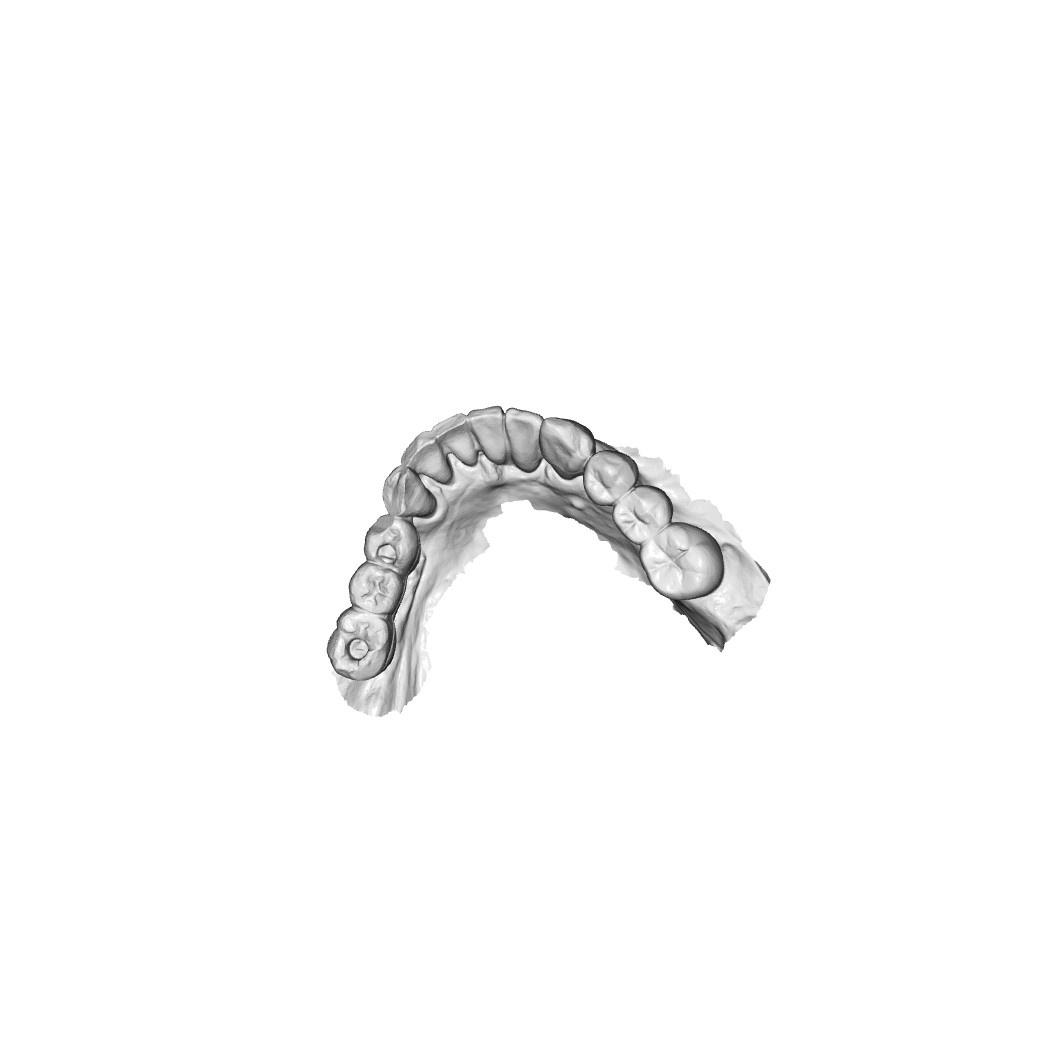canine: (540, 414, 594, 481), (379, 466, 438, 521)
incisor: (399, 430, 455, 488), (427, 412, 478, 468), (505, 404, 544, 476), (466, 404, 510, 467)
molar: (637, 520, 729, 601), (325, 603, 398, 684)
premolar: (362, 515, 422, 575), (611, 487, 670, 547), (347, 560, 406, 615), (584, 452, 638, 507)
